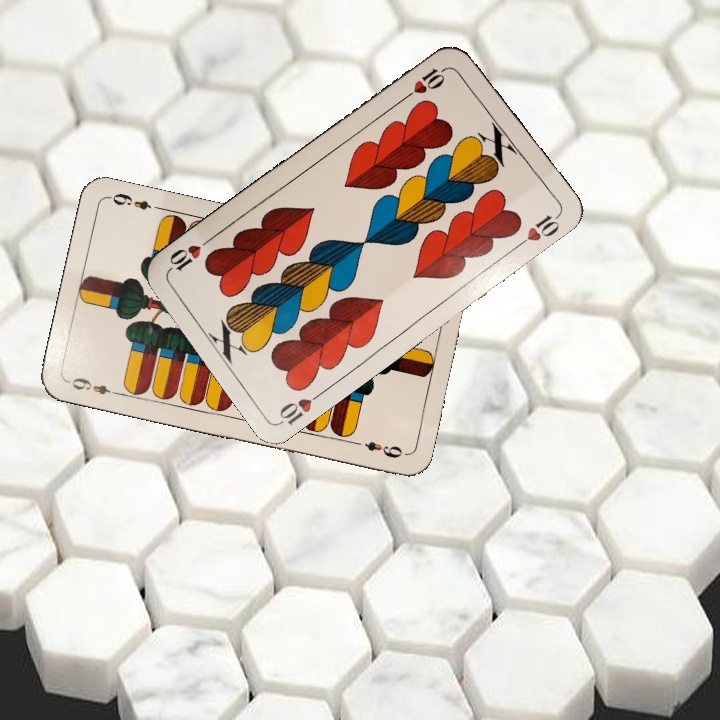E9: (64, 373, 122, 398)
H10: (275, 385, 328, 427), (400, 62, 452, 102)
